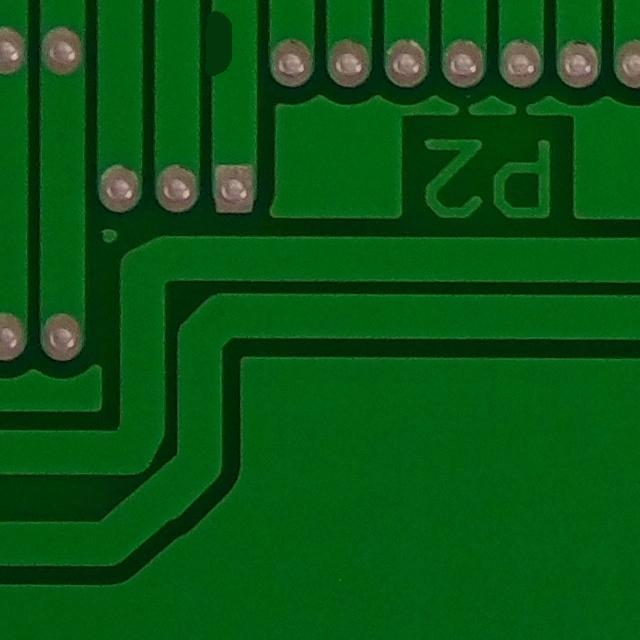mouse_bite: (195, 1, 253, 86)
